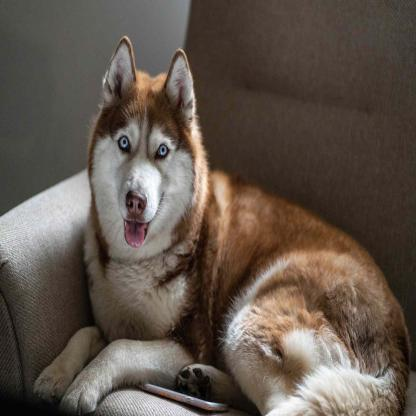husky: (32, 36, 410, 416)
